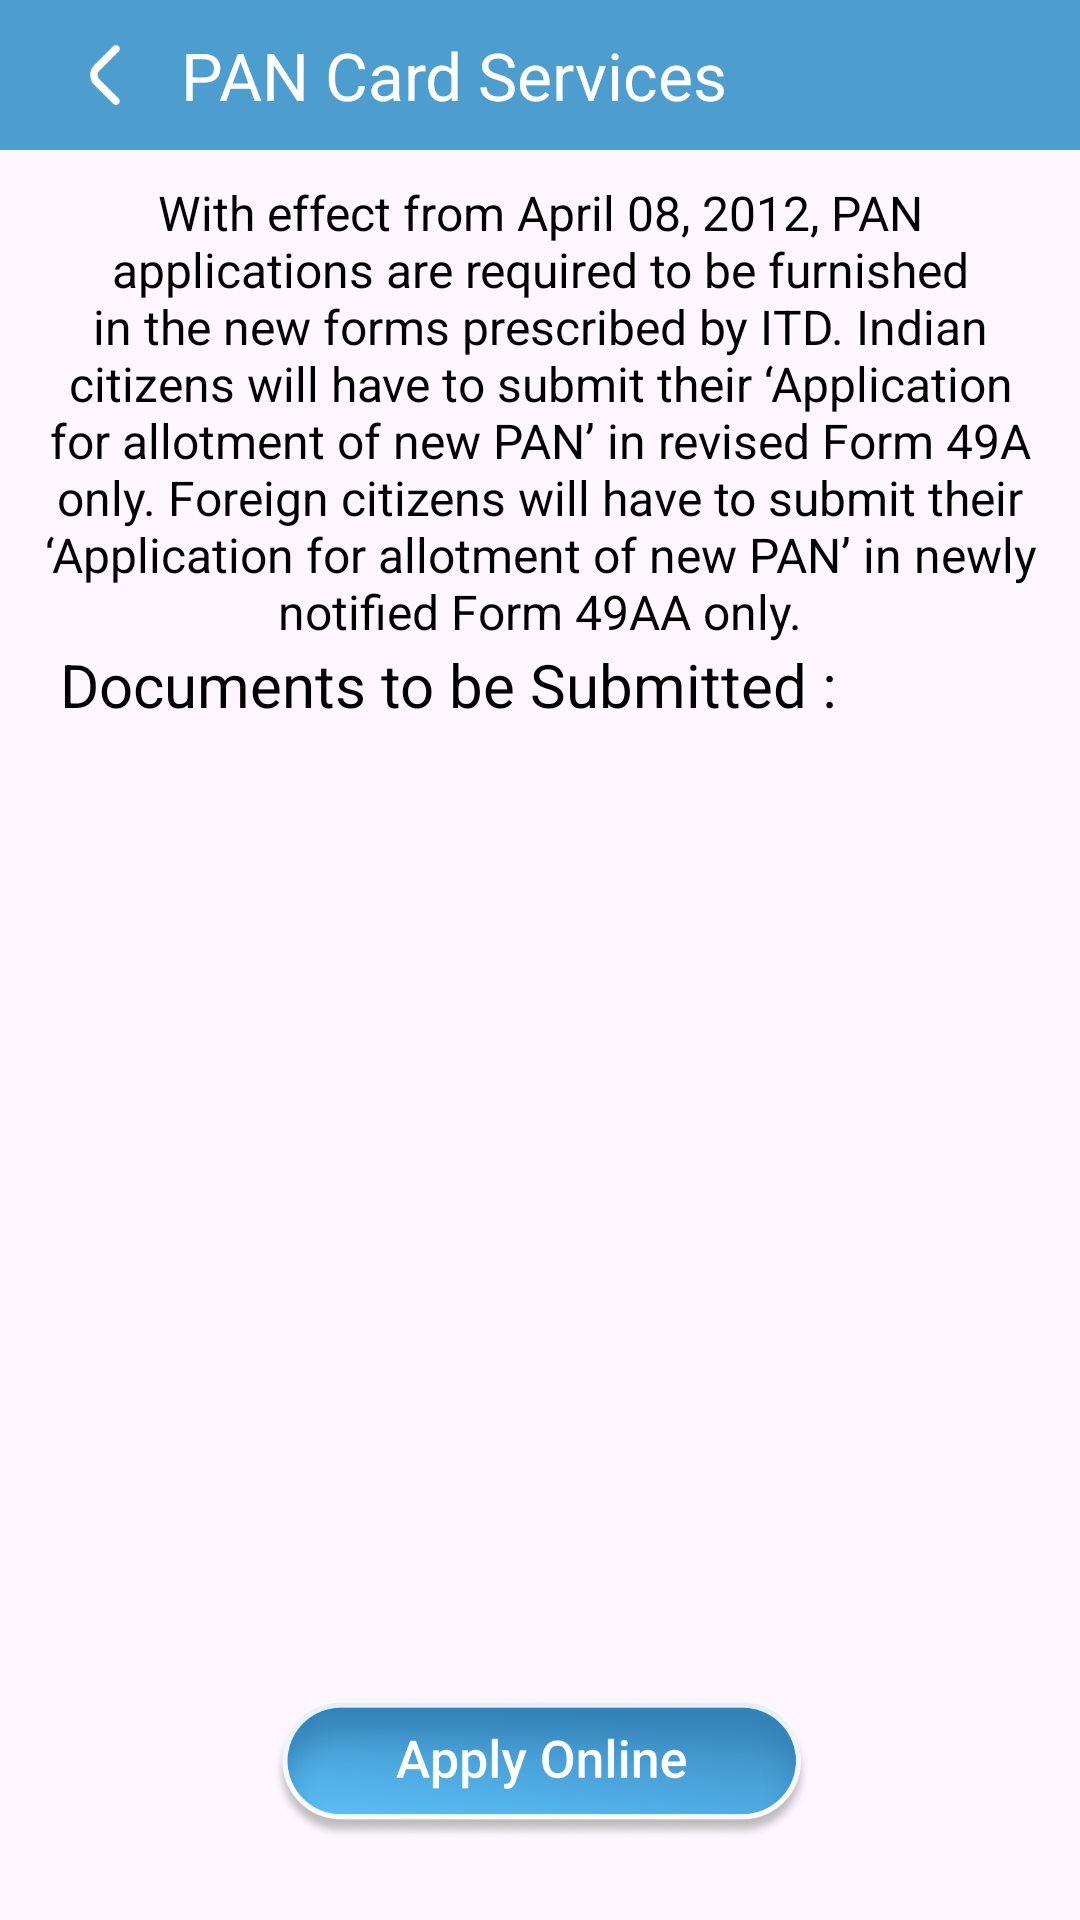

Screen size 1080 x 1920. Icon name, then its box in pixels as rect(x1, y1, x2, y2):
back: rect(90, 45, 120, 105)
